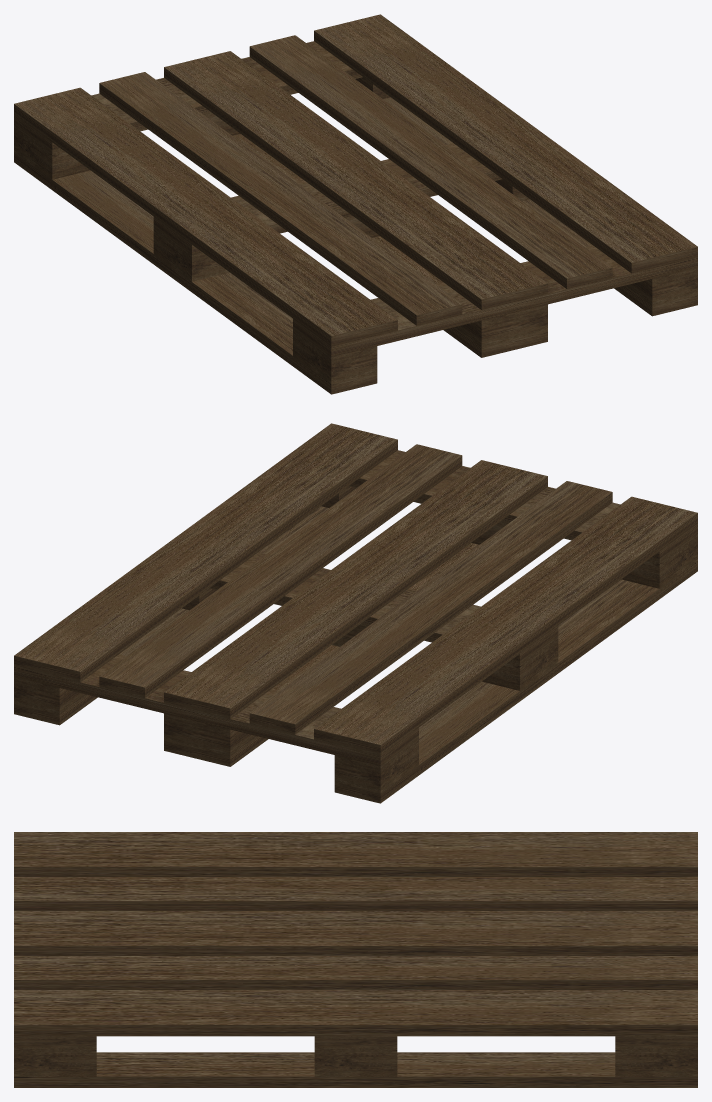
Rendered from Pallet.fbx.
3 views of the same model, one above another, from view 1: azimuth 30°, elevation 25°; view 2: azimuth 150°, elevation 25°; view 3: azimuth 270°, elevation 25° (orthographic). The views are drawn at different scales.
Parts seen in each view (by area): view 1: Pallet; view 2: Pallet; view 3: Pallet.
Part boxes in pixels (x1,y1,x2,y2): Pallet: (14, 14, 697, 394); Pallet: (14, 423, 697, 803); Pallet: (14, 832, 697, 1087).
Size of the model in its own units: 800 by 122 by 1200.
Materials: 1 (1 with a texture image).
